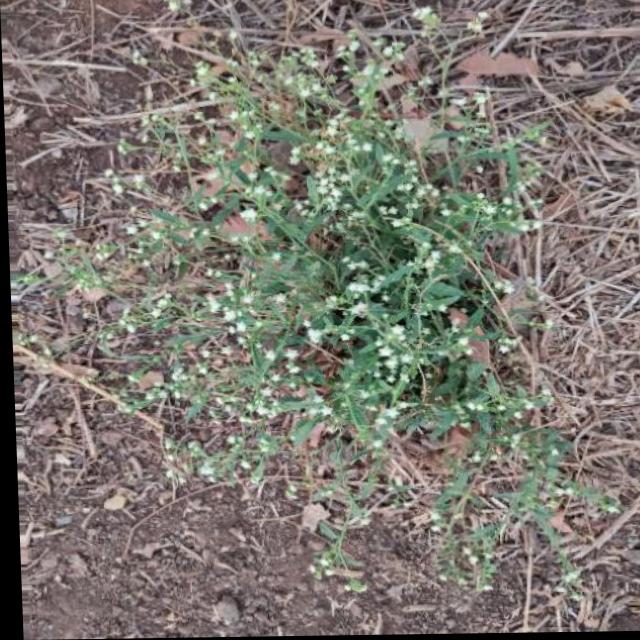weed: (120, 3, 632, 603)
